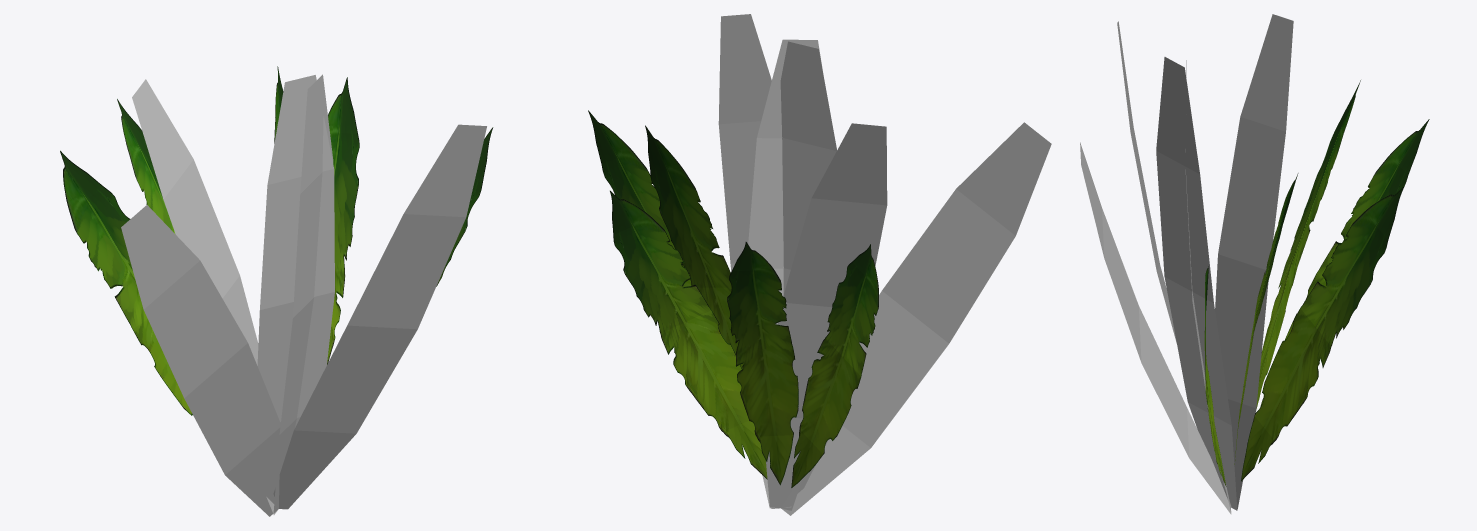
The model's file is Hemp_36.fbx.
3 views of the same model, side by side, from view 1: azimuth 30°, elevation 25°; view 2: azimuth 150°, elevation 25°; view 3: azimuth 270°, elevation 25° (orthographic).
Parts seen in each view (by area): view 1: Hemp_36; view 2: Hemp_36; view 3: Hemp_36.
Part boxes in pixels (left/top/right/bottom): Hemp_36: left=60, top=66, right=493, bottom=516; Hemp_36: left=588, top=14, right=1051, bottom=515; Hemp_36: left=1080, top=14, right=1429, bottom=514.
Bounding box in the file's own units: 881 × 844 × 642.
